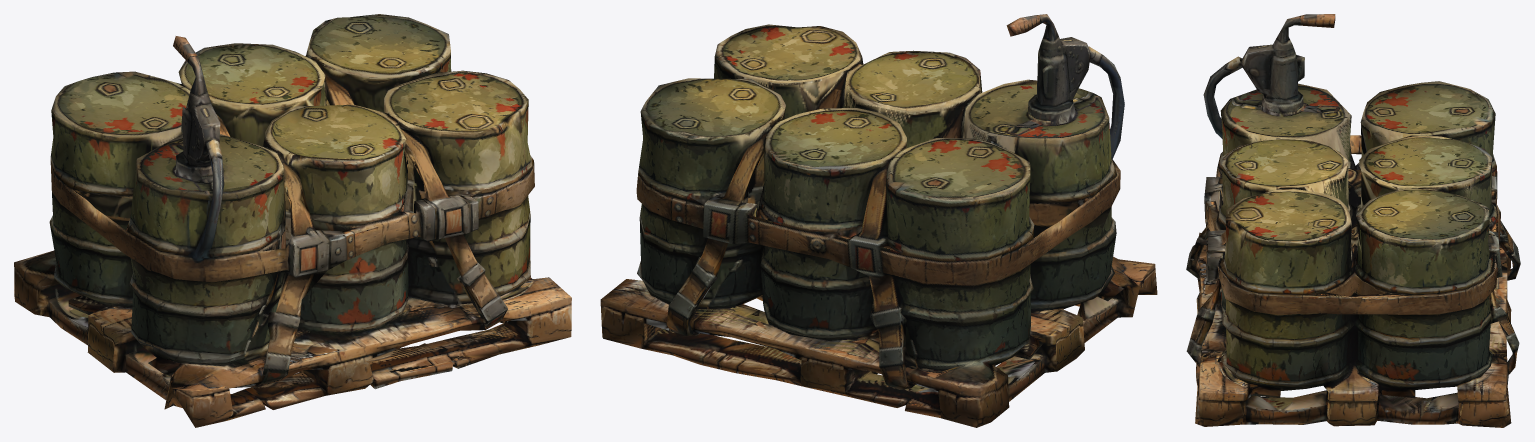
Rendered from EX_Mil_FuelDrums.fbx.
3 views of the same model, side by side, from view 1: azimuth 30°, elevation 25°; view 2: azimuth 150°, elevation 25°; view 3: azimuth 270°, elevation 25° (orthographic). The views are drawn at different scales.
Parts seen in each view (by area): view 1: texture_mapping; view 2: texture_mapping; view 3: texture_mapping.
Part boxes in pixels (x1,y1,x2,y2): texture_mapping: [14, 14, 571, 427]; texture_mapping: [600, 14, 1157, 427]; texture_mapping: [1186, 14, 1520, 427].
Bounding box in the file's own units: 0.9992 × 0.8543 × 0.7929.
Materials: 1 (1 with a texture image).
